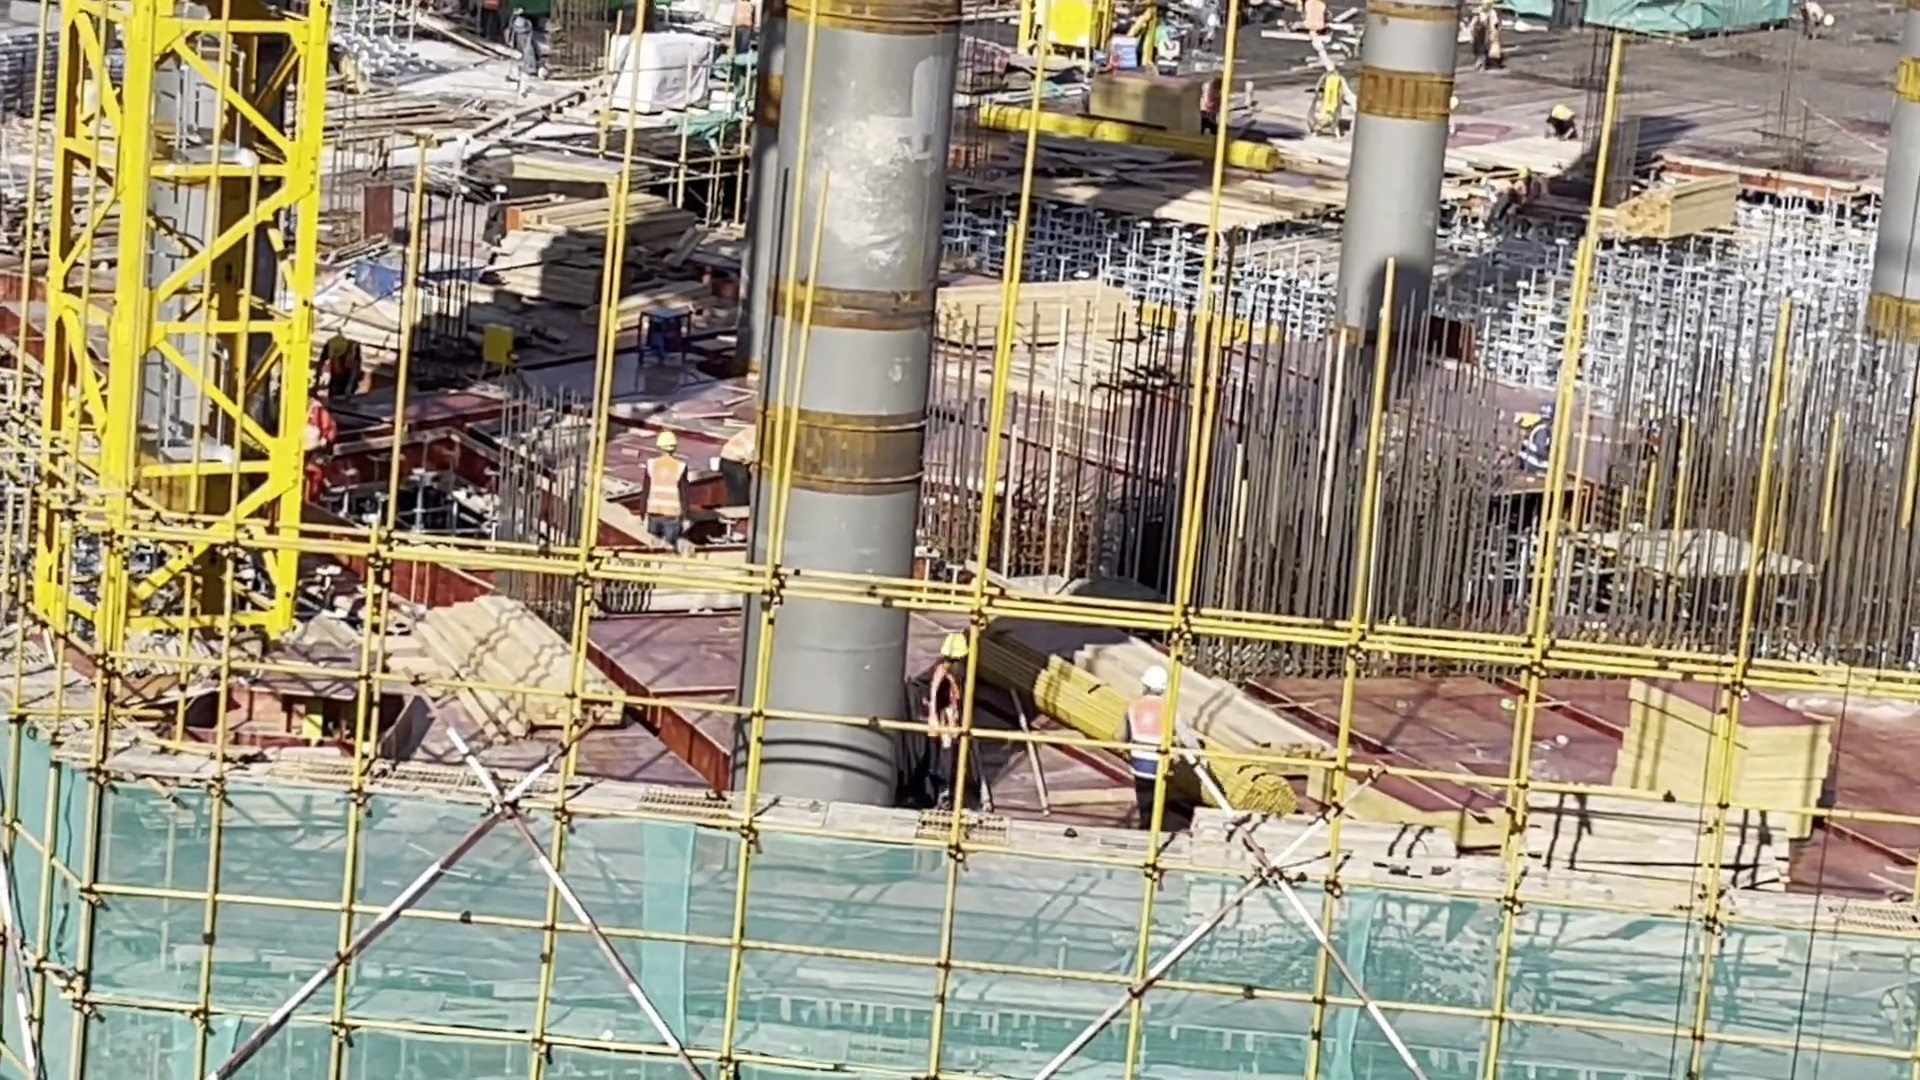board: (1619, 672, 1844, 820), (500, 196, 692, 299)
helmet: (1144, 664, 1170, 693), (939, 635, 967, 653), (656, 432, 677, 449)
person: (1116, 661, 1194, 818), (923, 626, 969, 801), (632, 427, 692, 558)
vest: (1127, 698, 1175, 778), (642, 455, 683, 522)
wood: (409, 581, 623, 735), (1190, 683, 1338, 818), (1582, 176, 1751, 249), (943, 279, 1121, 343)
